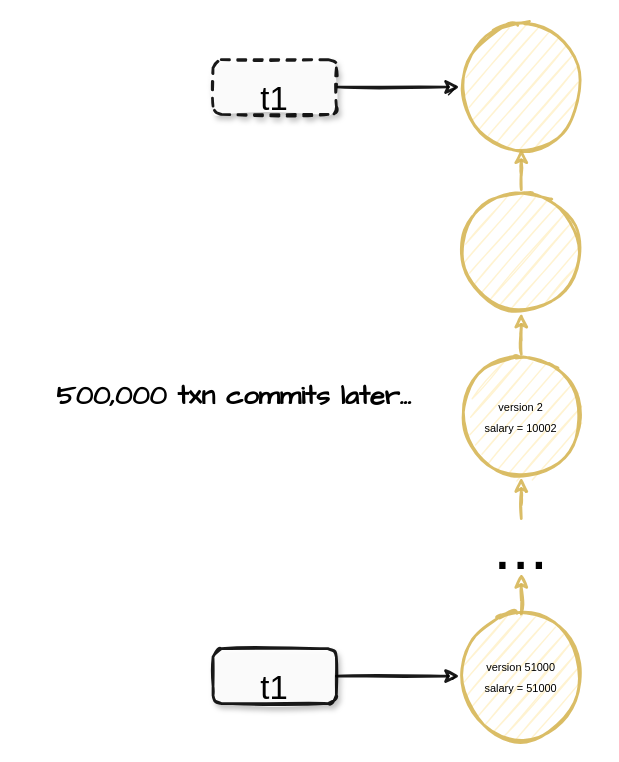
Some shapes in this 619 by 762 pixel diagram are drawn without their labels. The centre of each missing label's shape, as x and y in pixels:
"version 0 salary = 10000" belongs at point (521, 86).
"version 1 salary = 10001" belongs at point (521, 251).
